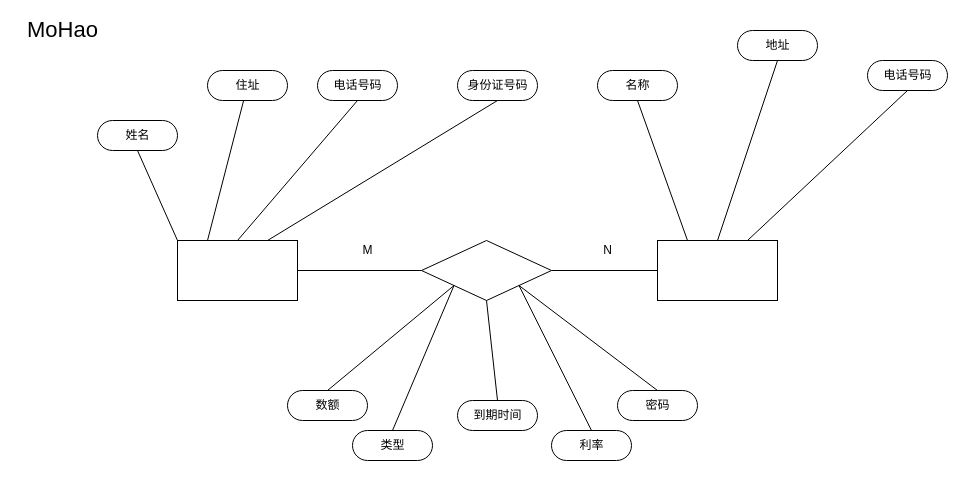
Some shapes in this 965 by 478 pixel diagram are drawn without their labels. The shapes that lost their labels are listed below. From the top down, each one's box as (x1, y1, x2, y2) in pixels, then its label:
(176, 240, 298, 300): 储户
(420, 240, 552, 300): 存取款
(656, 240, 778, 300): 储蓄所
